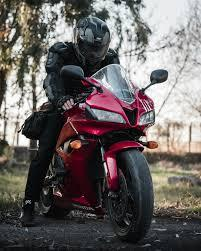Helmet: (73, 15, 110, 68)
